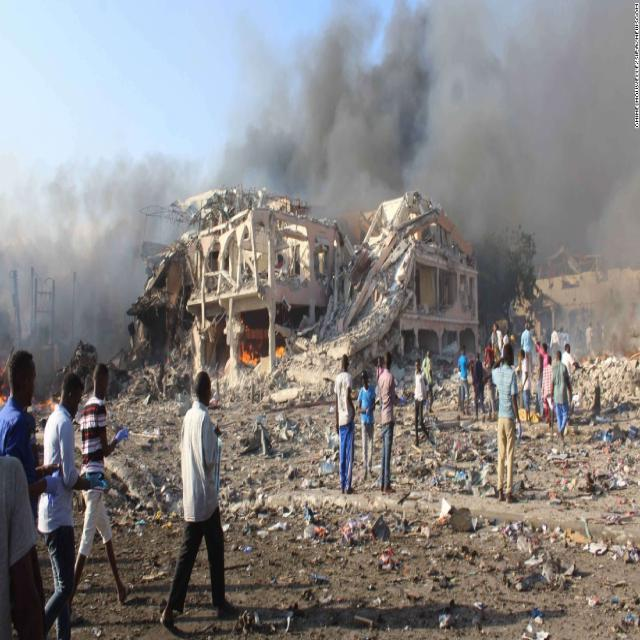smoke: (256, 7, 640, 205), (32, 186, 130, 352)
